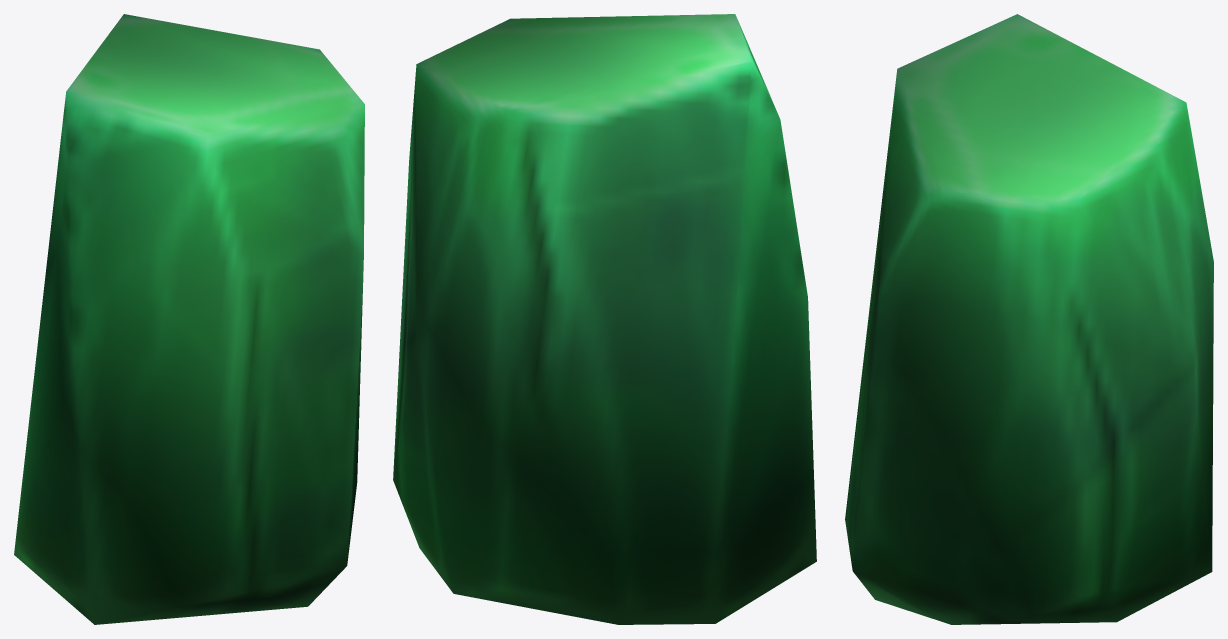
The model's file is SM_Gem_Emerald_Piece_002.fbx.
The picture shows the model from 3 angles, left to right: view 1: azimuth 30°, elevation 25°; view 2: azimuth 150°, elevation 25°; view 3: azimuth 270°, elevation 25°; orthographic projection. The views are drawn at different scales.
Visible parts, largest first — view 1: SM_Gem_Emerald_Piece_002; view 2: SM_Gem_Emerald_Piece_002; view 3: SM_Gem_Emerald_Piece_002.
Boxes of the visible parts, x1,y1,x2,y2 form: SM_Gem_Emerald_Piece_002: [14, 14, 364, 624]; SM_Gem_Emerald_Piece_002: [393, 14, 816, 624]; SM_Gem_Emerald_Piece_002: [845, 14, 1213, 624].
Size of the model in its own units: 10.09 by 14.8 by 9.84.
